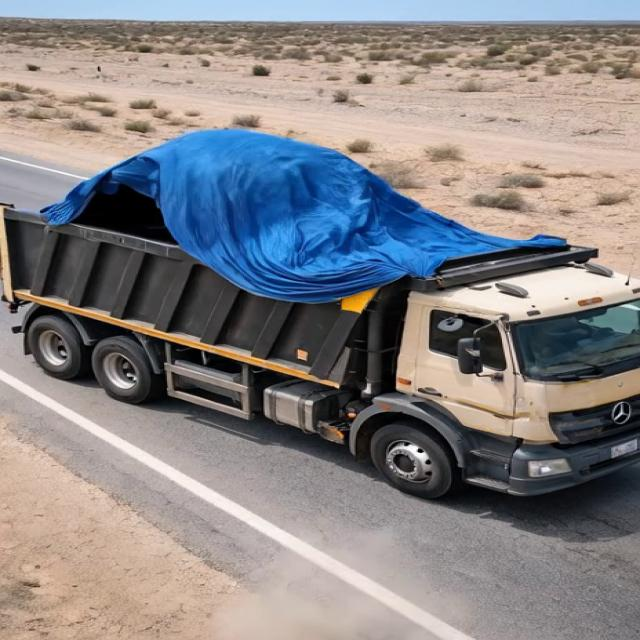Box: (4, 157, 592, 288)
Truck: (3, 142, 633, 496)
